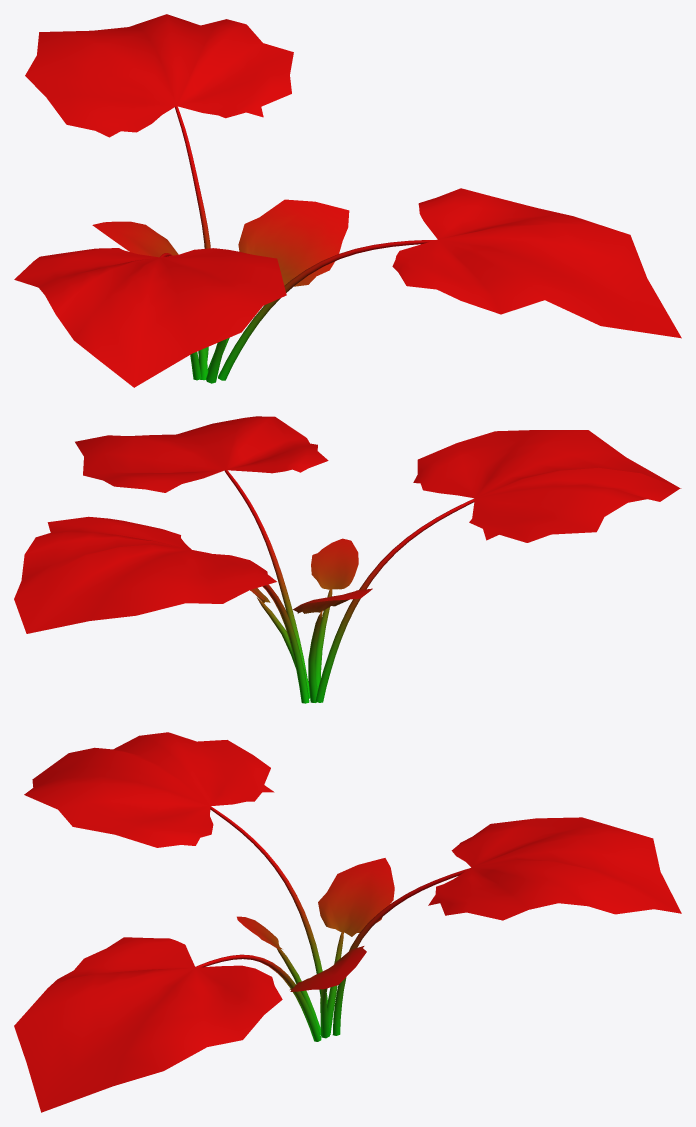
The model's file is Coltsfoot_LOD0_Var3_xbtkdfvqx.fbx.
3 views of the same model, one above another, from view 1: azimuth 30°, elevation 25°; view 2: azimuth 150°, elevation 25°; view 3: azimuth 270°, elevation 25° (orthographic). The views are drawn at different scales.
Parts seen in each view (by area): view 1: _2nnv_Var3_LOD0; view 2: _2nnv_Var3_LOD0; view 3: _2nnv_Var3_LOD0.
Boxes of the visible parts, bbox=[...] form: _2nnv_Var3_LOD0: bbox=[14, 14, 681, 387]; _2nnv_Var3_LOD0: bbox=[14, 416, 681, 703]; _2nnv_Var3_LOD0: bbox=[14, 732, 681, 1112].
Size of the model in its own units: 25.01 by 9.31 by 26.46.
